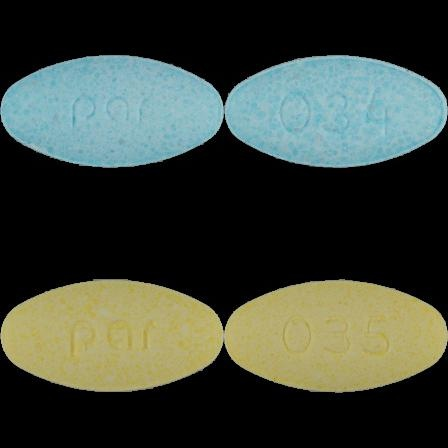60429-204: (0, 0, 224, 224)
